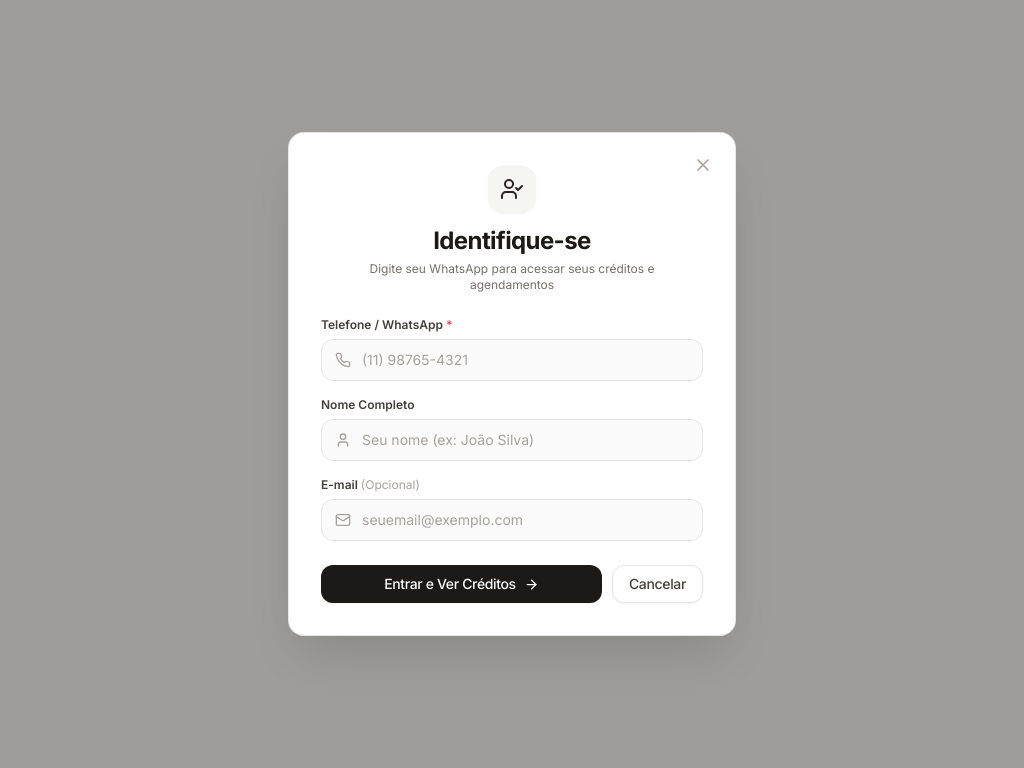
it: CustomerLoginModal Component › displays API error message when customerLogin fails
Type "11987654321" into the field labelled "Telefone / WhatsApp *".
click(512, 360); type("11987654321")  # box [321,339,703,381]
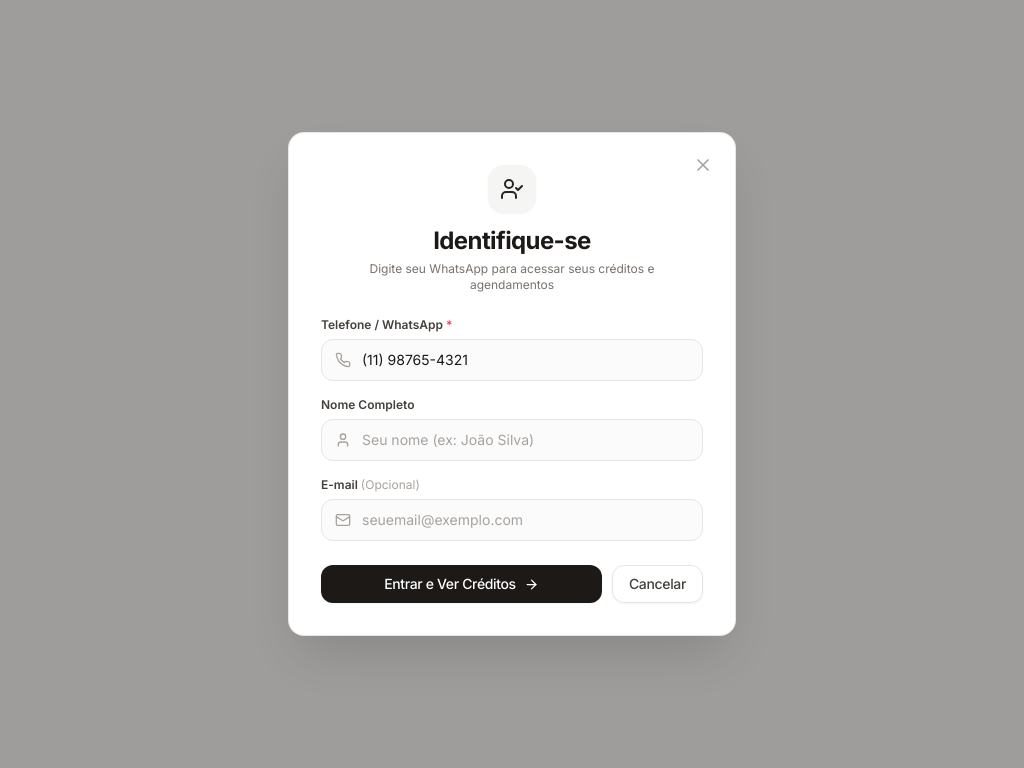
Click the button "Entrar e Ver Créditos".
click(462, 584)  # box [321,565,602,603]
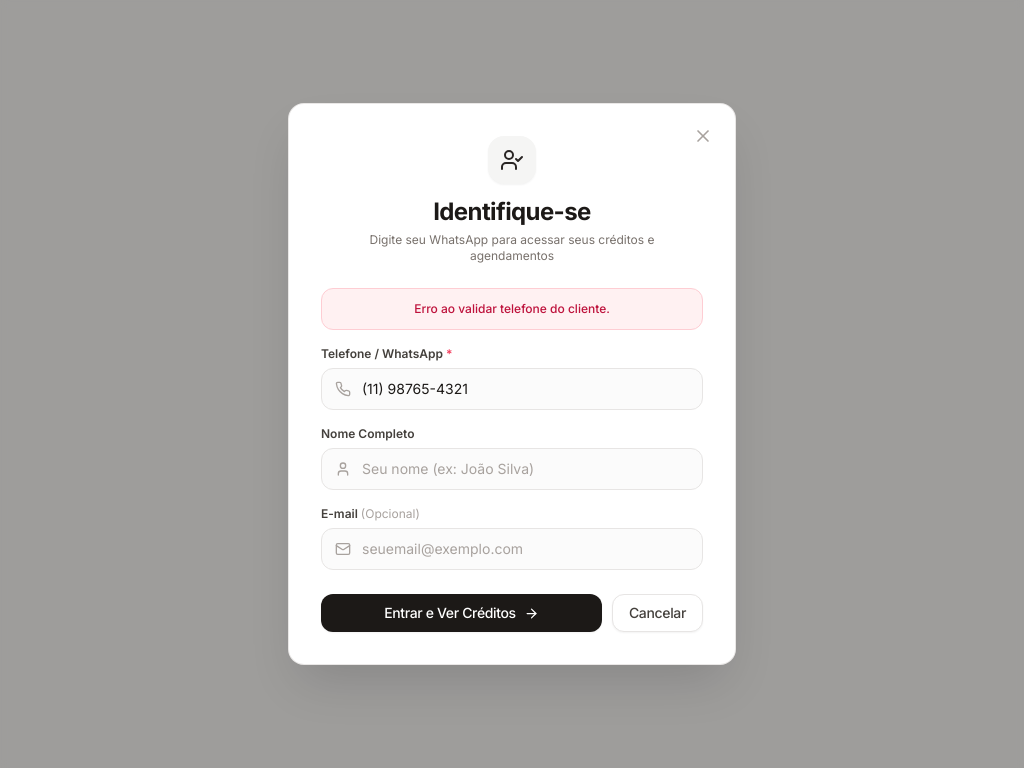
Expected: the text "Erro ao validar telefone do cliente." is shown, [321,288,703,330]
